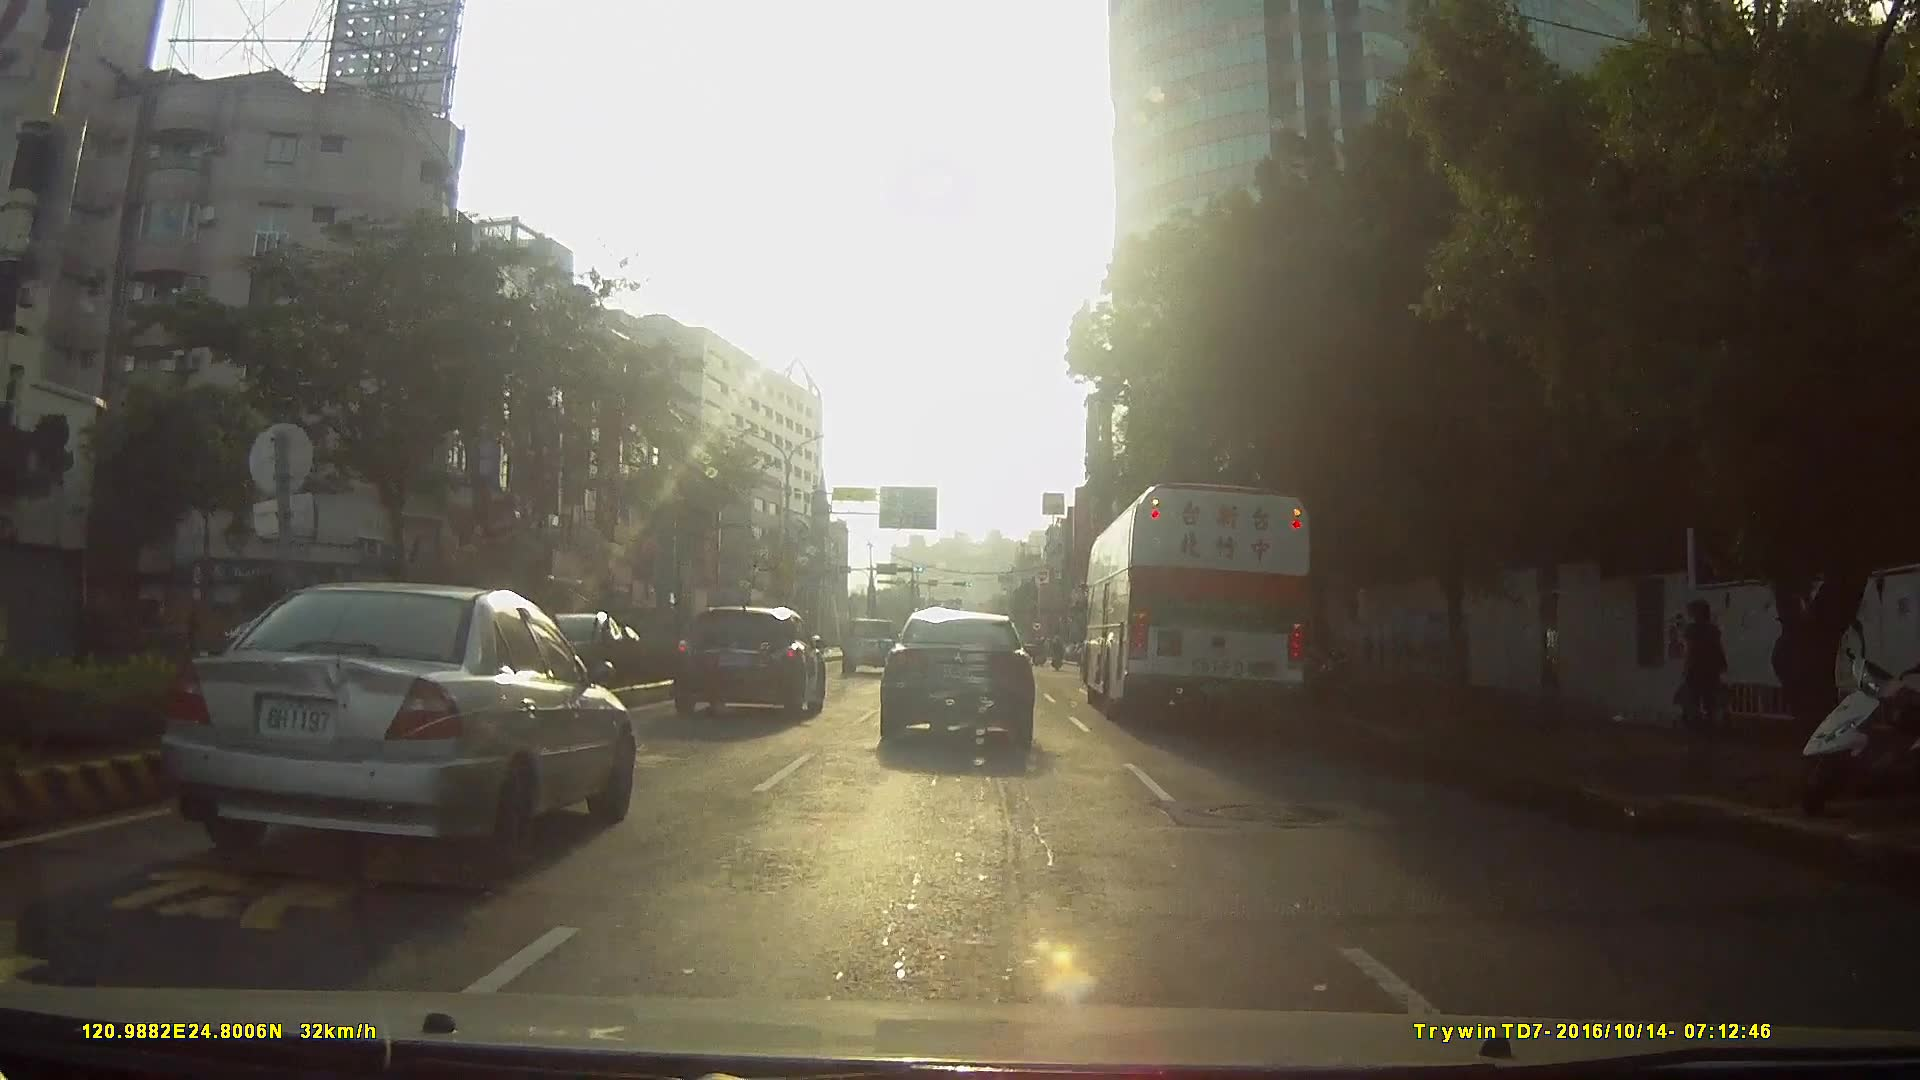pedestrian: (1678, 599, 1736, 753)
vehicle: (151, 580, 633, 884), (1085, 475, 1322, 726), (876, 608, 1037, 751), (671, 602, 826, 721), (840, 614, 902, 672)
